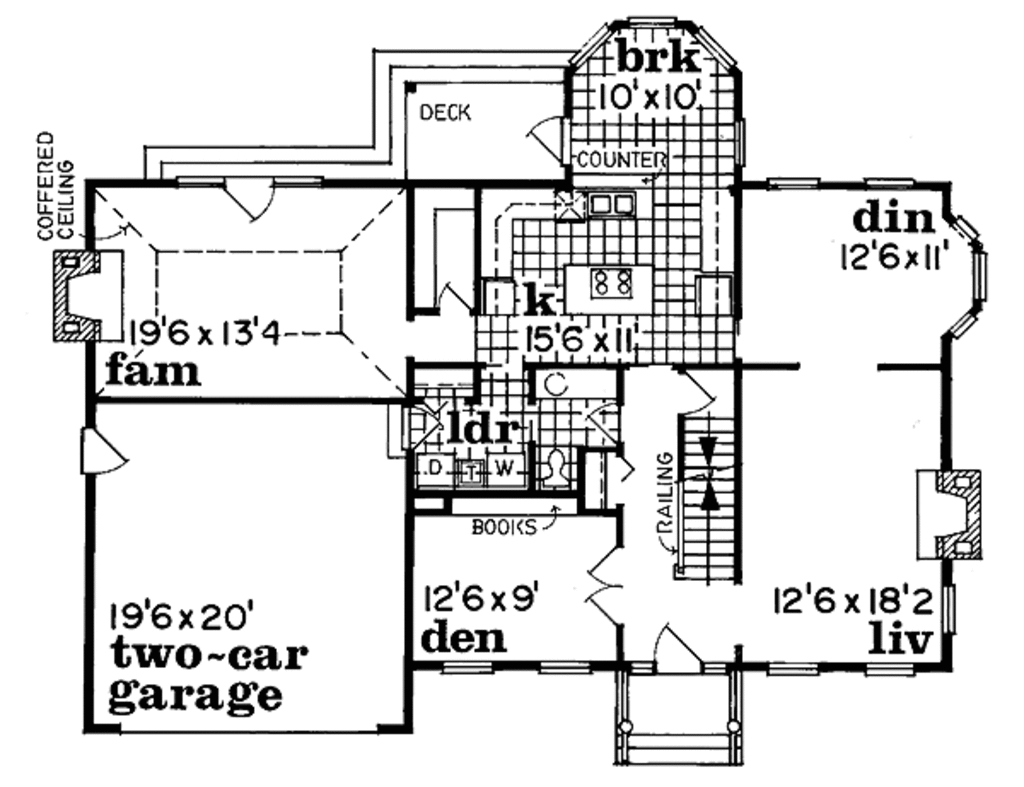door: (590, 541, 621, 625), (653, 625, 702, 675), (526, 112, 572, 164), (225, 178, 284, 218), (82, 427, 128, 476), (678, 370, 717, 418), (434, 281, 475, 321)
kitchen_bar: (559, 263, 660, 319)
large_sink: (542, 448, 575, 490)
small_sink: (531, 366, 623, 401)
stairs: (680, 416, 743, 591), (613, 718, 743, 771)
twin_sink: (586, 192, 639, 227)
windows: (948, 216, 987, 340), (431, 654, 593, 681), (760, 660, 915, 680), (762, 174, 923, 192), (609, 8, 686, 30)
